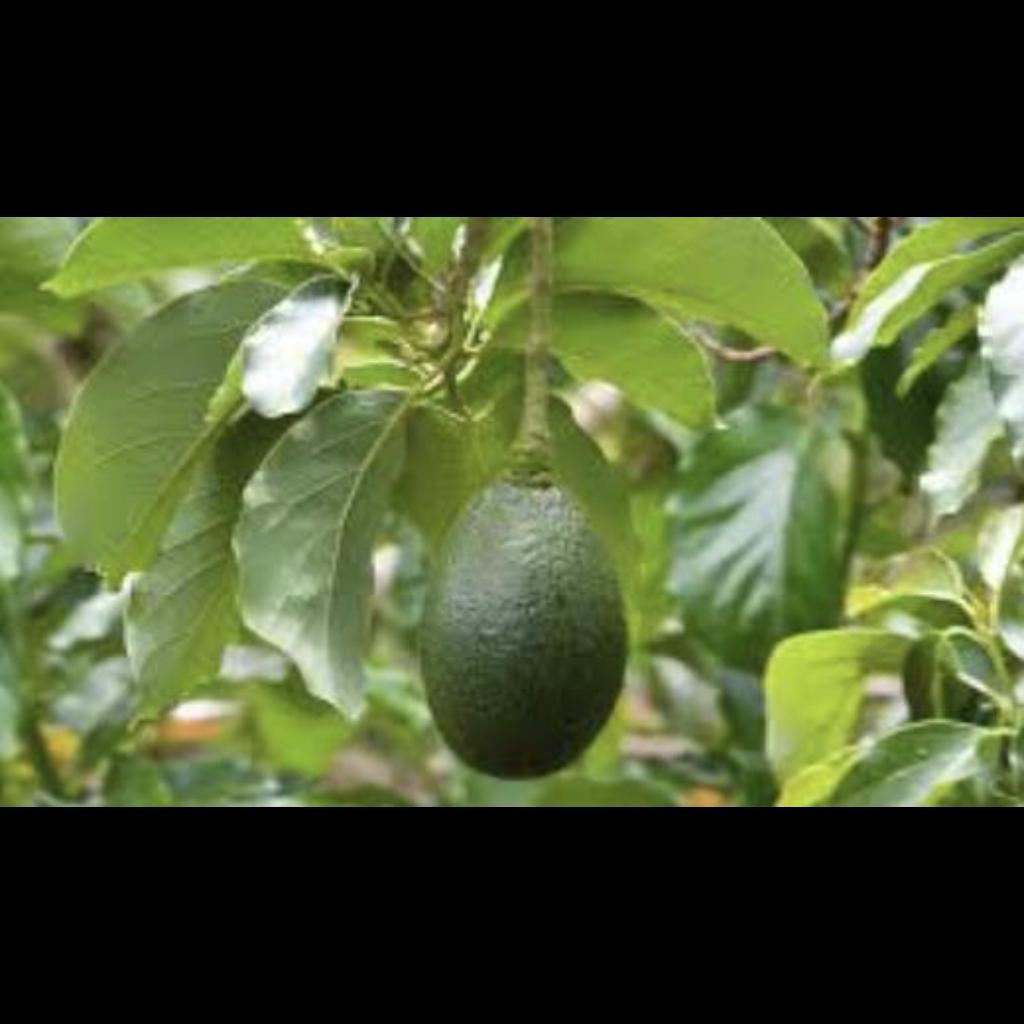fruto_sano: (431, 482, 628, 783)
